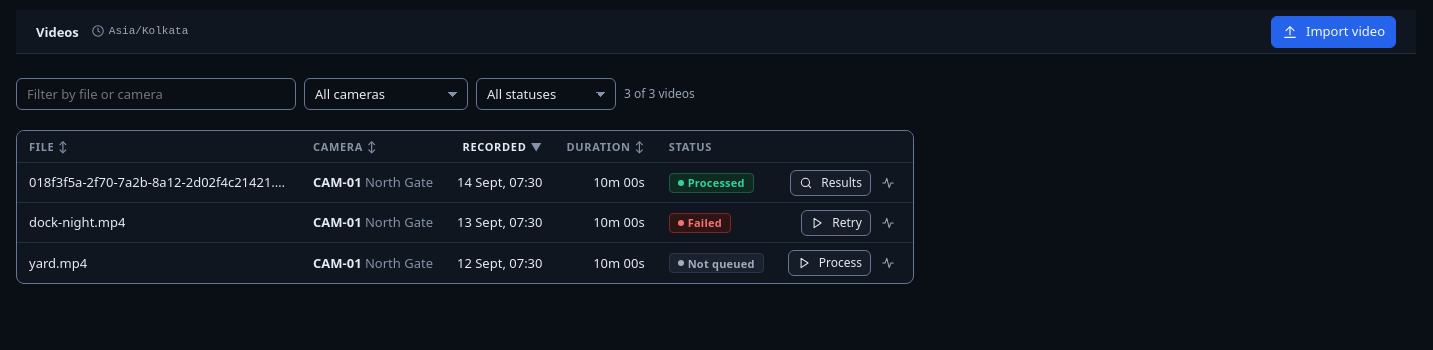
Test case: VideosPage — R2 actions, run lookups and failure copy › names the video whose processing could not be queued, with the API detail and code last
Click the button "Process".
click(829, 263)  # box [788, 250, 871, 276]
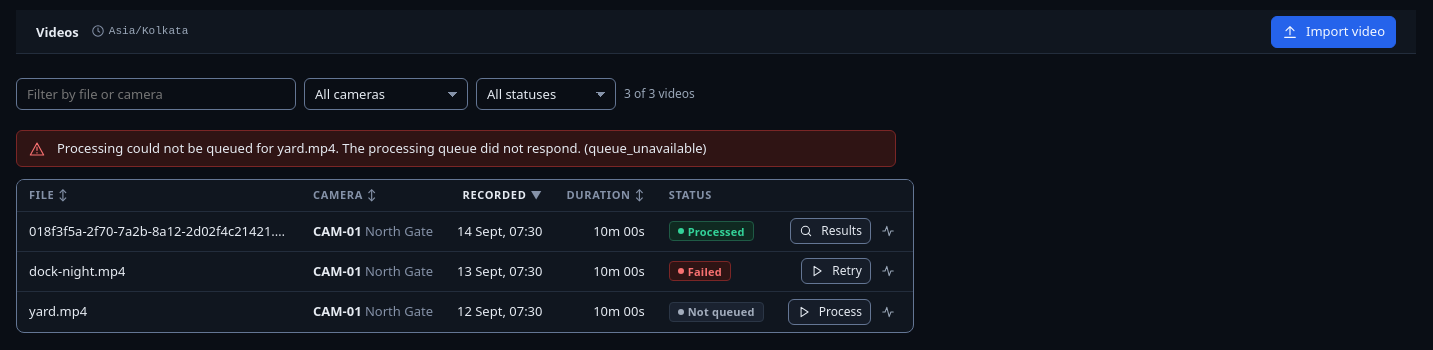
Check: the text "Processing could not be queued for yard.mp4. The processing queue did not respond. (queue_unavailable)" is shown, box [57, 139, 706, 157]
